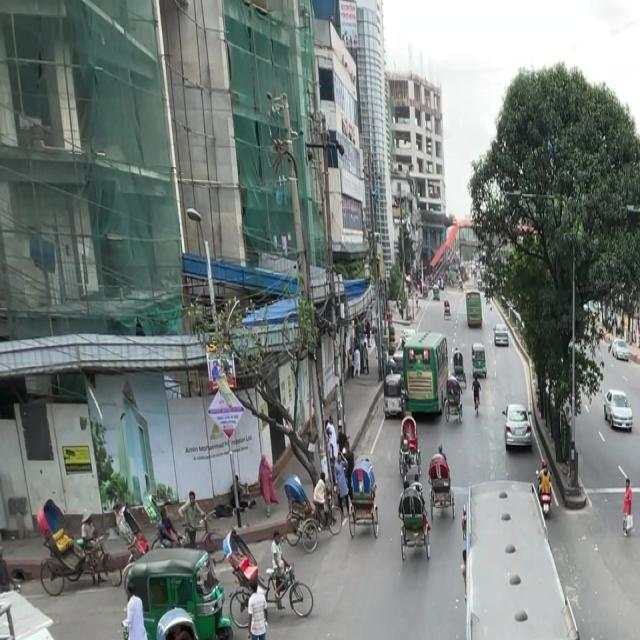bus: (463, 483, 589, 640), (404, 321, 449, 432)
car: (499, 396, 537, 456), (600, 384, 636, 434)
motorbike: (530, 456, 560, 524)
